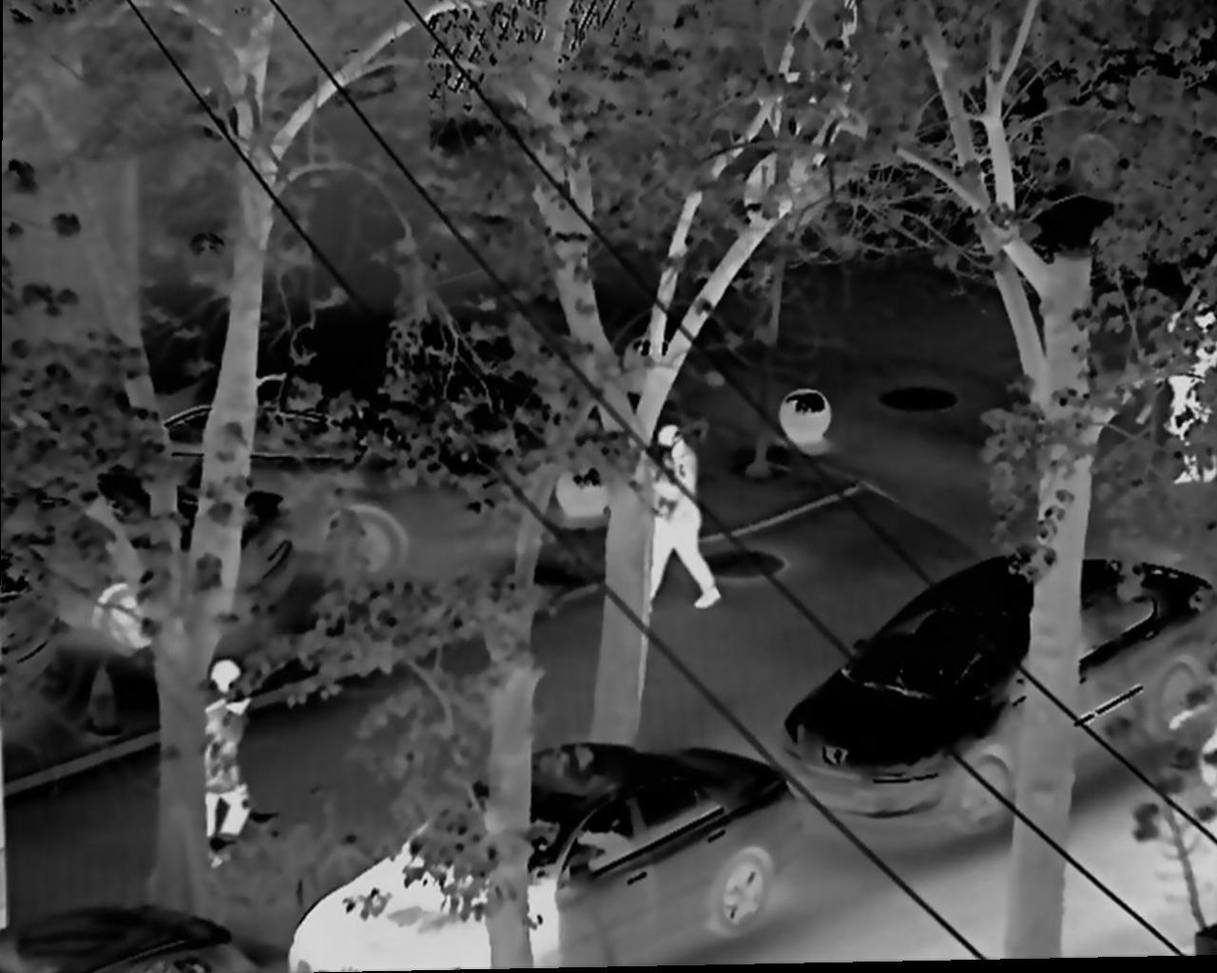person: (633, 424, 721, 631), (181, 659, 254, 874), (1164, 287, 1217, 478)
